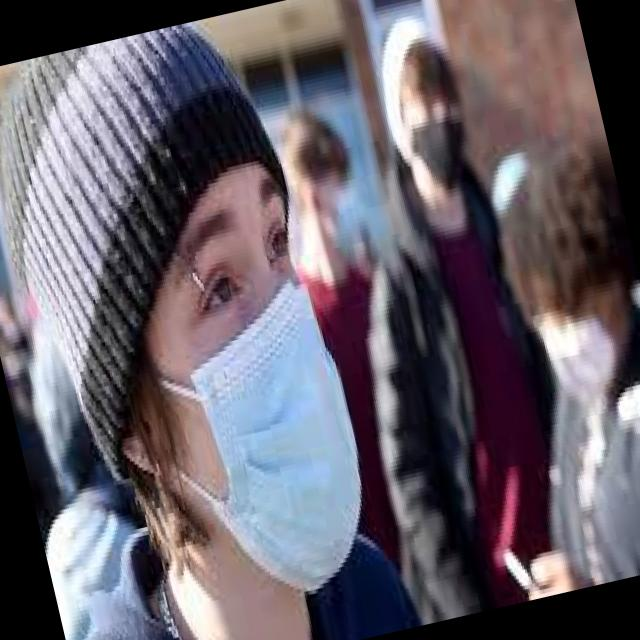Jacket: (312, 147, 606, 627)
